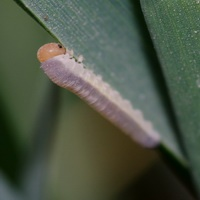insect: (37, 43, 159, 147)
